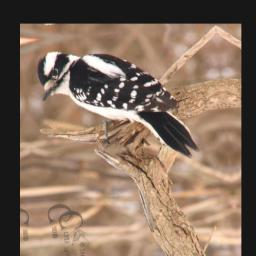Woodpecker: (35, 38, 205, 173)
